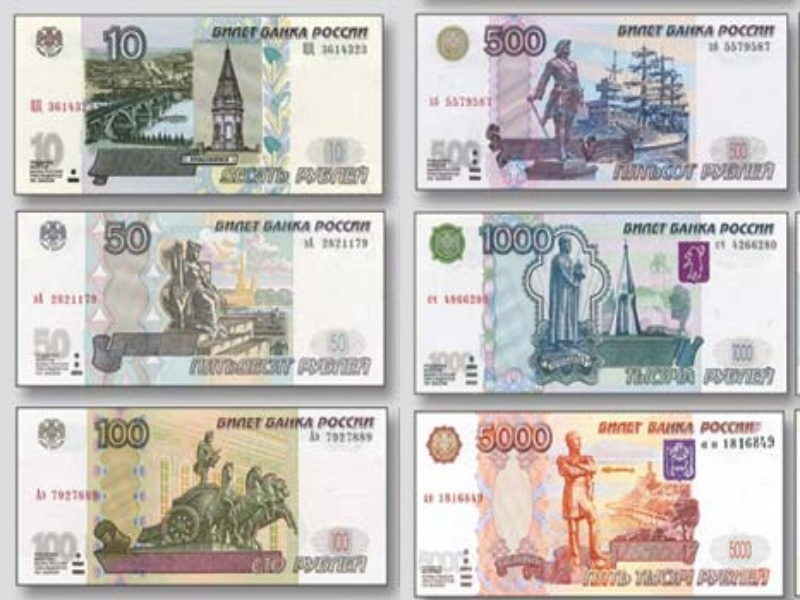cash: (415, 409, 784, 596), (14, 14, 383, 194), (415, 213, 788, 391), (16, 407, 385, 584), (415, 15, 788, 190), (16, 211, 383, 385)
